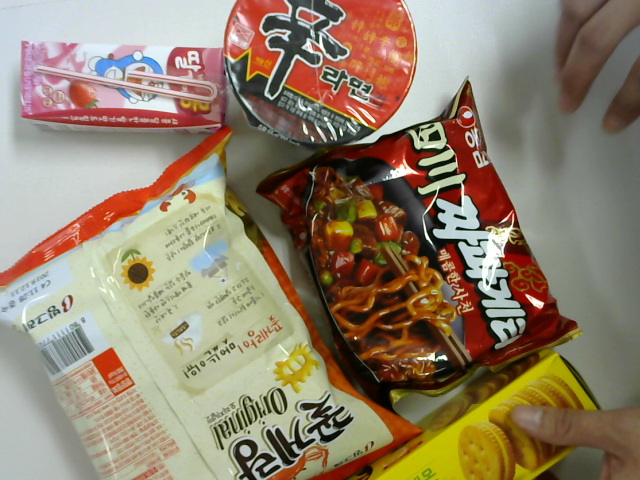Crabrang: (3, 128, 420, 480)
Ritz_Remon_96g: (321, 344, 607, 480)
Sichuan_Chapaghetti: (257, 84, 587, 392)
Sinramen_small: (223, 1, 415, 152)
Strawberry_E_Mong: (19, 36, 235, 136)
